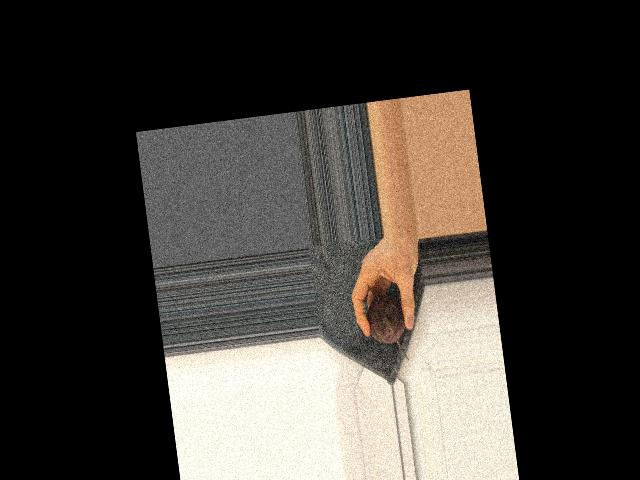beet: (364, 293, 409, 365)
